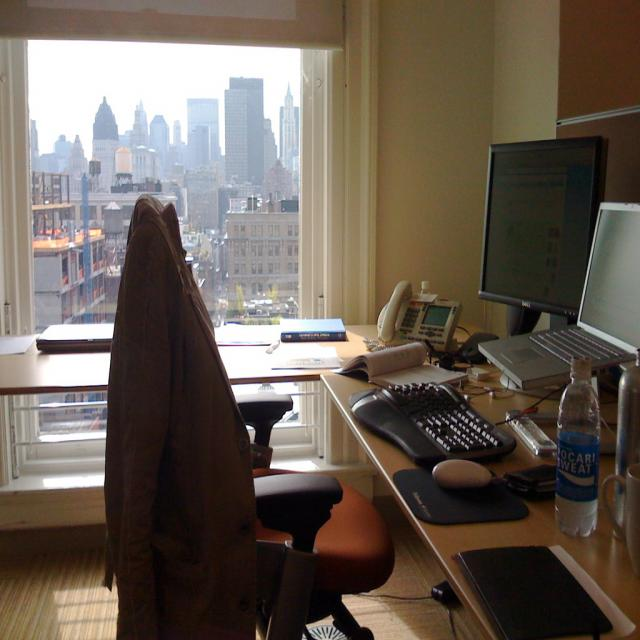chair: (103, 199, 393, 638)
desk: (324, 372, 640, 639)
keyboard: (351, 381, 517, 464)
laptop: (477, 200, 640, 390)
mouse: (432, 459, 492, 490)
tv: (477, 136, 609, 318)
